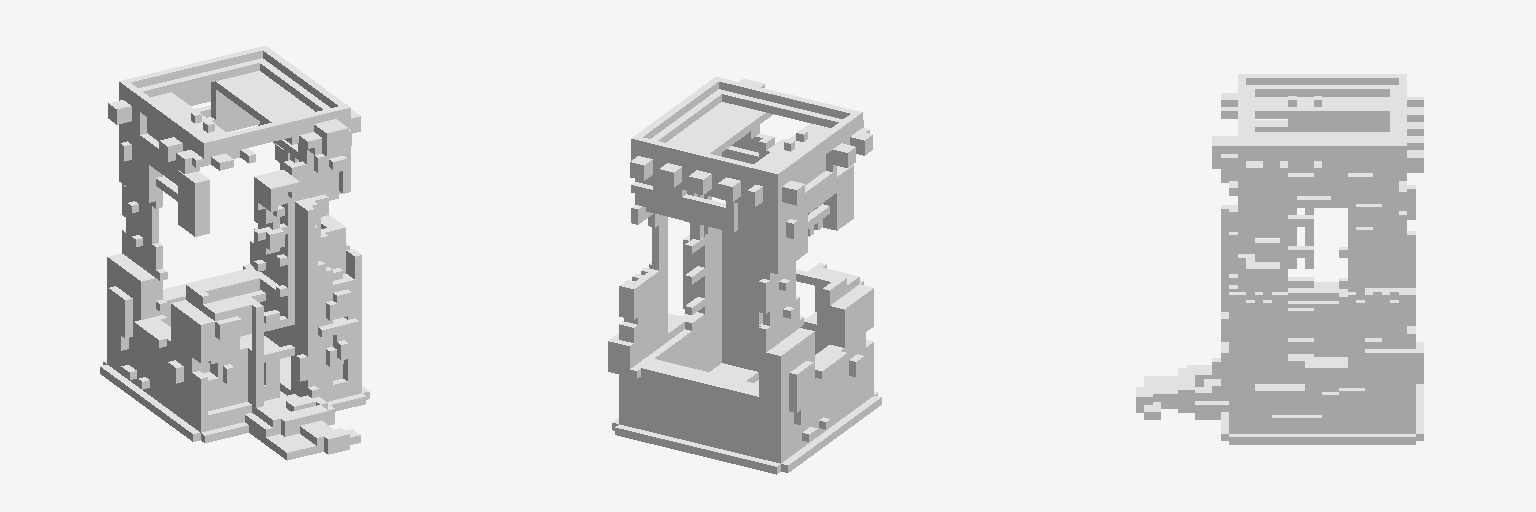
3 views of the same model, side by side, from view 1: azimuth 30°, elevation 25°; view 2: azimuth 150°, elevation 25°; view 3: azimuth 270°, elevation 25° (orthographic).
Parts seen in each view (by area): view 1: SmallBuilding03; view 2: SmallBuilding03; view 3: SmallBuilding03.
Part boxes in pixels (bbox=[...]): SmallBuilding03: bbox=[100, 46, 369, 460]; SmallBuilding03: bbox=[608, 77, 881, 474]; SmallBuilding03: bbox=[1136, 74, 1423, 444].
Bounding box in the file's own units: 2.4 × 3.8 × 3.4.